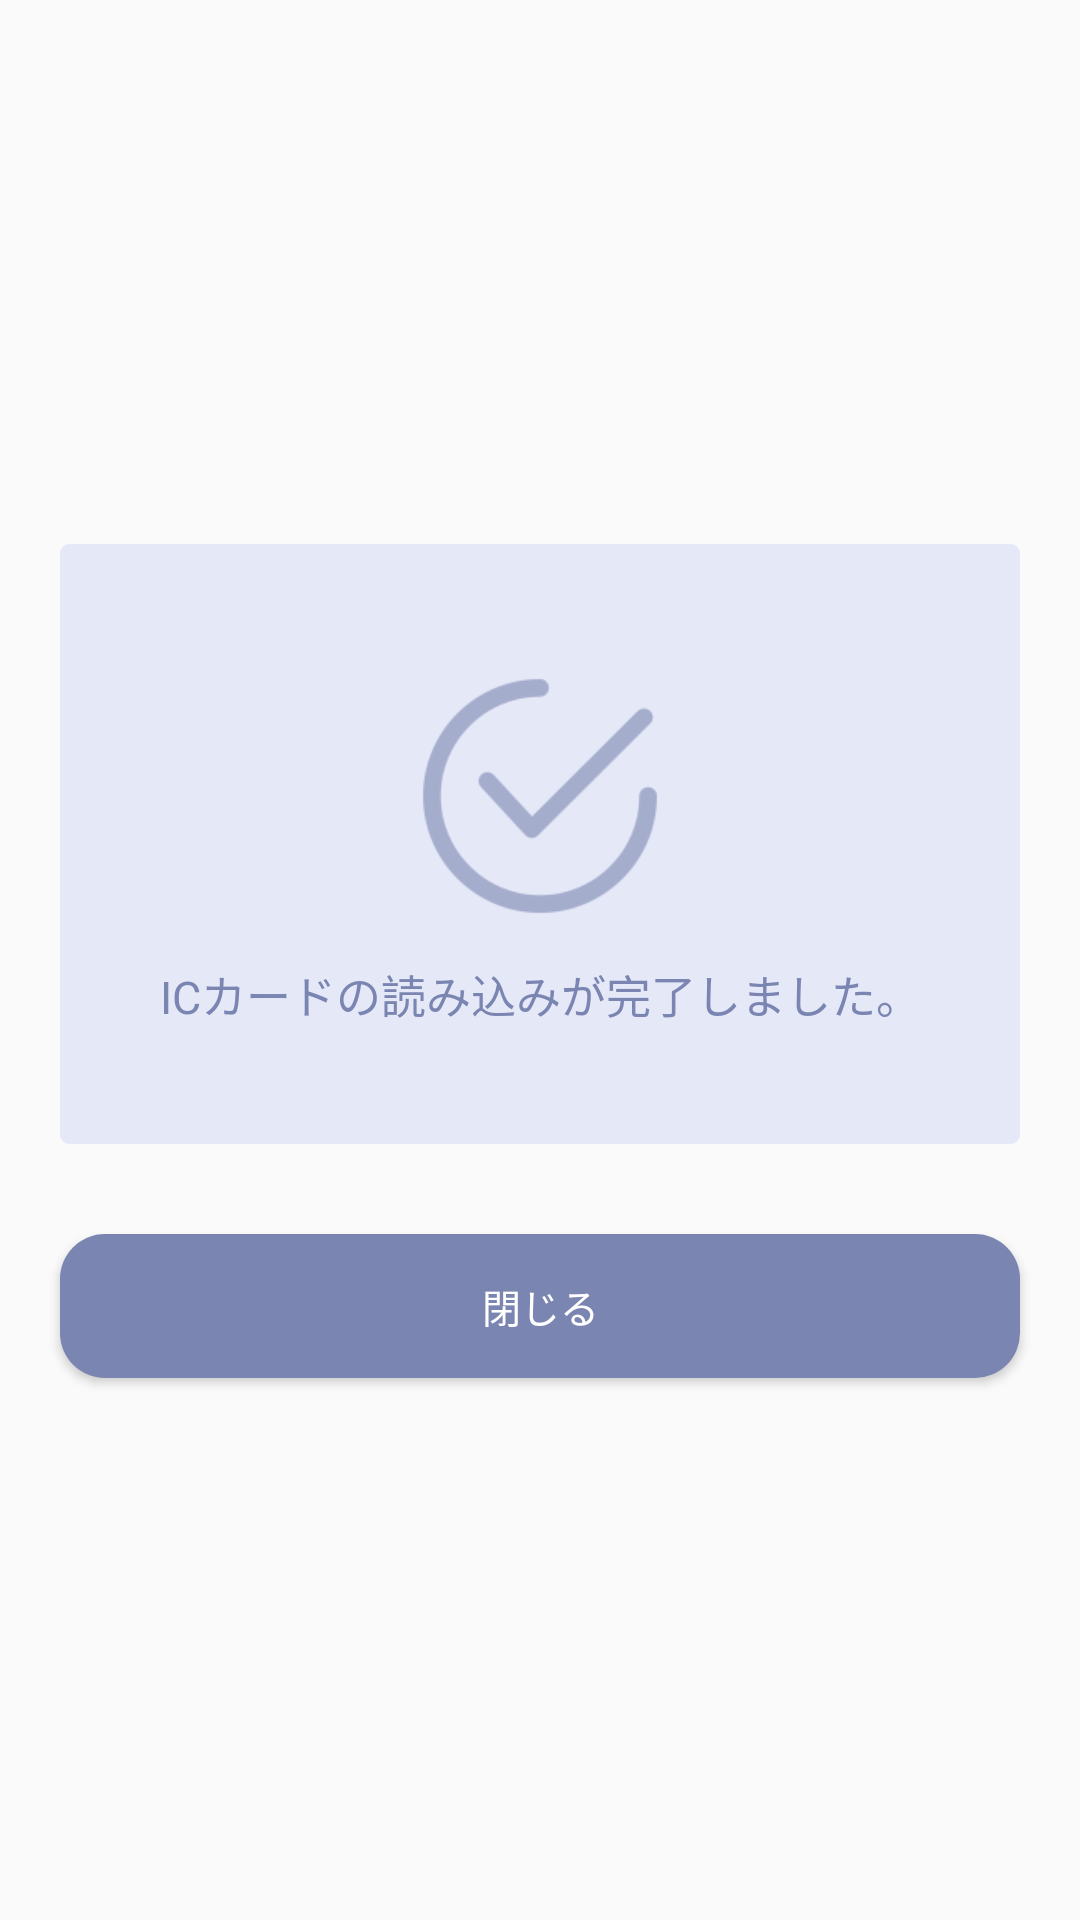

Where to tap for icons on this 1080 x 1920 app screen, as (x=x, y=y):
success: (x=540, y=796)
